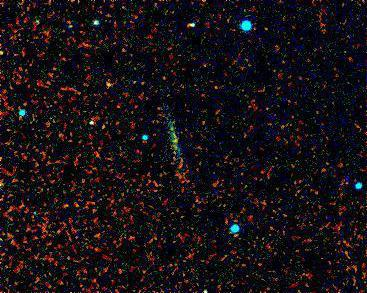star: (100, 67, 130, 97)
